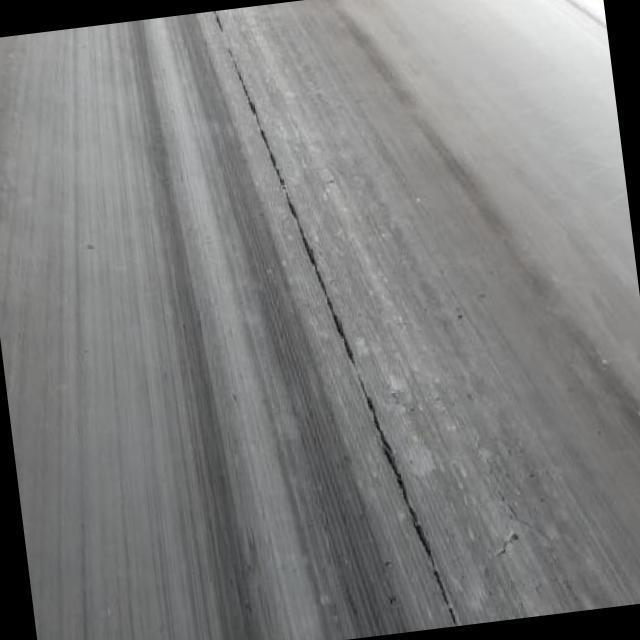Tear: (210, 9, 464, 629)
